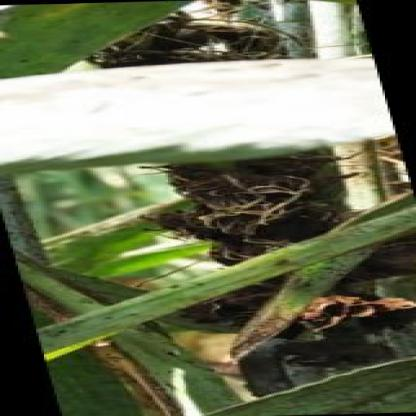Wheat Smut: (158, 25, 272, 56), (190, 188, 320, 214), (186, 162, 325, 182), (310, 295, 396, 326), (286, 335, 374, 364), (198, 220, 304, 238), (108, 47, 140, 64), (221, 245, 256, 257)
